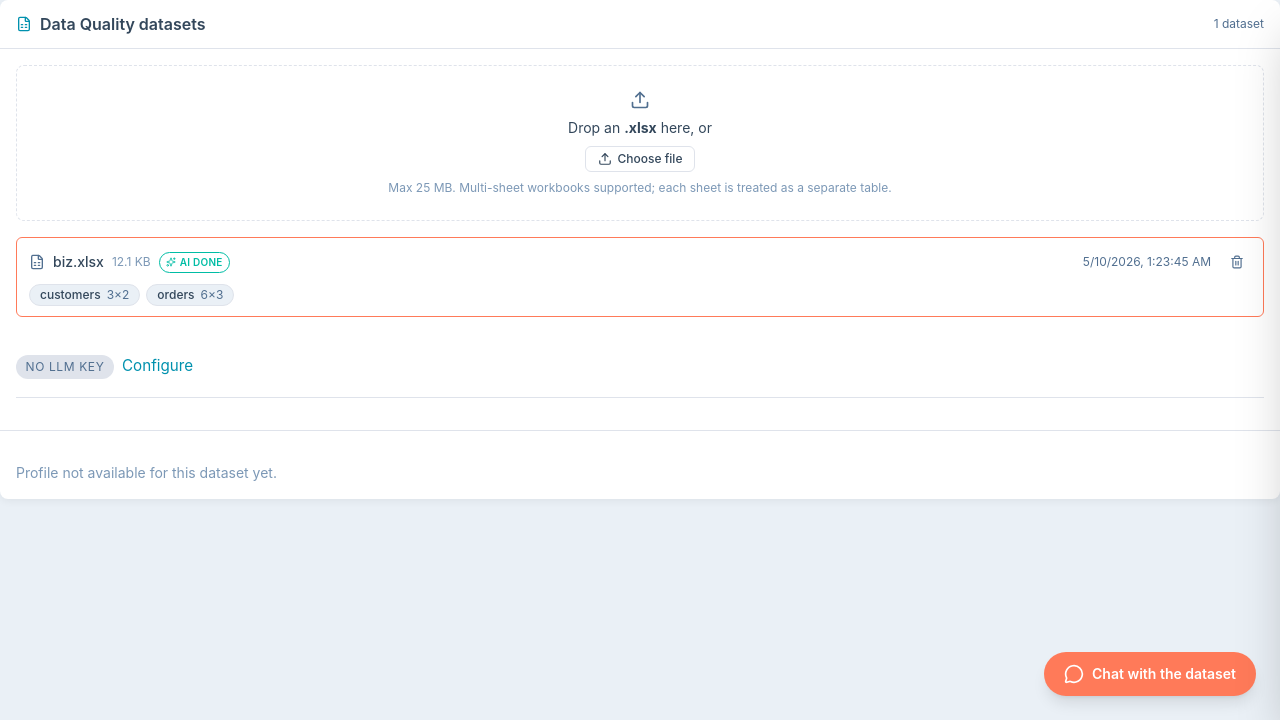
DataQualitySection › deletes a dataset and removes it from the list
Expected: the text "biz.xlsx" is shown, top-left (53, 252), bottom-right (104, 272)
Click the button named "delete biz.xlsx" at (1237, 262), box top-left (1223, 248), bottom-right (1251, 276)
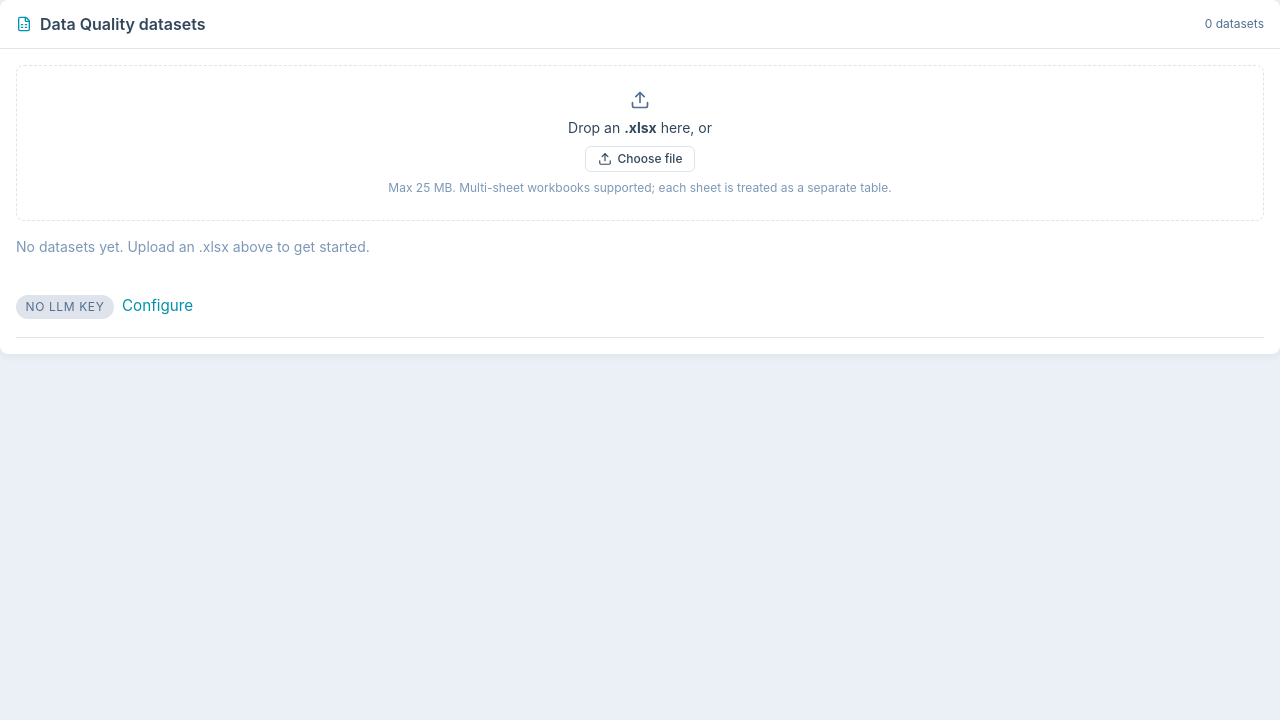
Now the text "biz.xlsx" is gone
